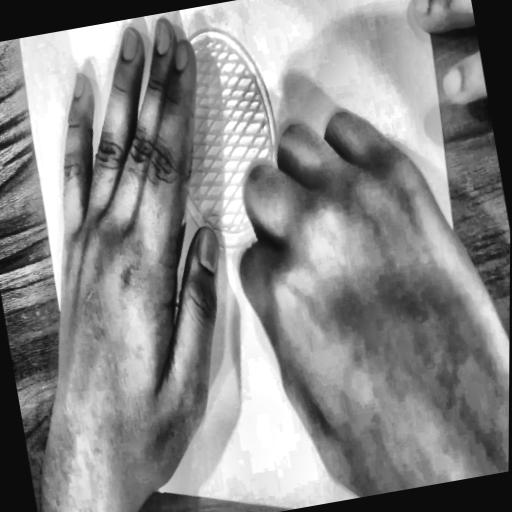badminton: (91, 1, 415, 512)
bottom_right: (77, 469, 88, 483)
